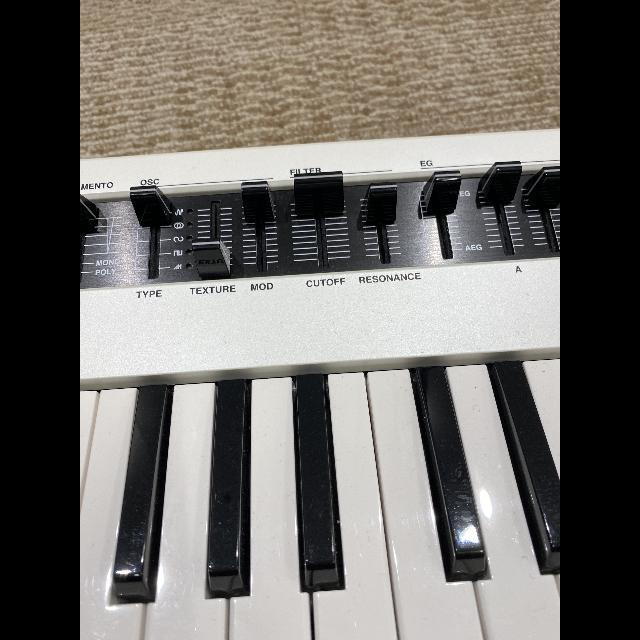Electronic-Keyboard: (80, 127, 560, 640)
